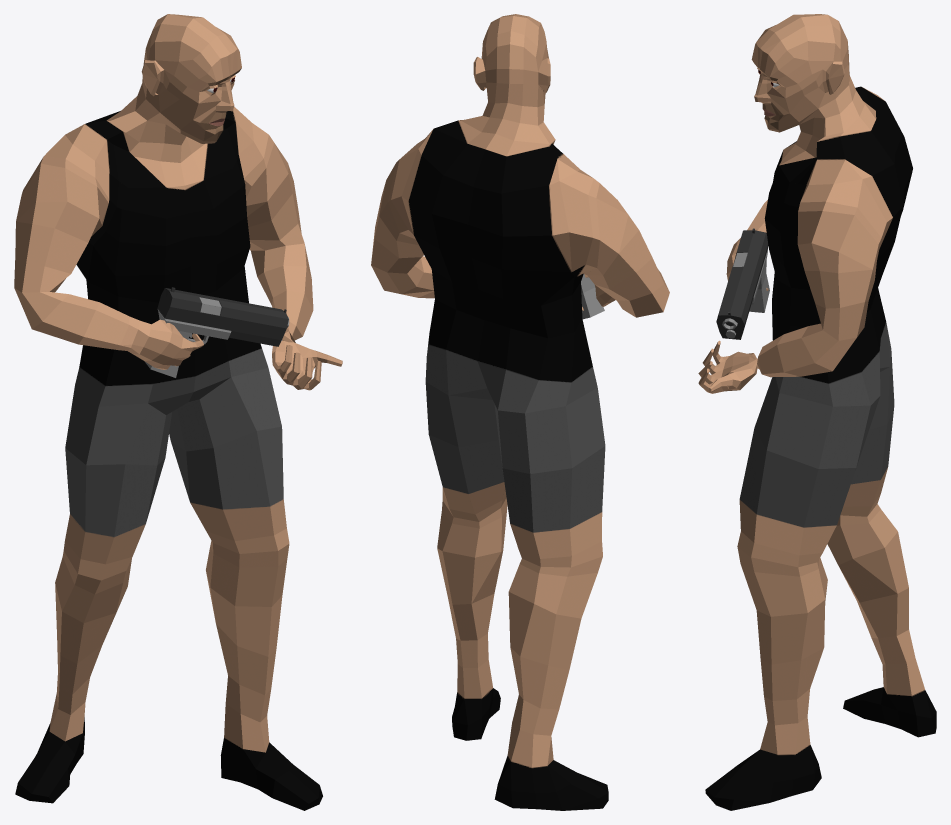
Rendered from PlayerIdle(171).obj.
3 renders of one model, left to right at view 1: azimuth 30°, elevation 25°; view 2: azimuth 150°, elevation 25°; view 3: azimuth 270°, elevation 25°, orthographic. The views are drawn at different scales.
Parts seen in each view (by area): view 1: Plane002, Box003; view 2: Plane002, Box003; view 3: Plane002, Box003.
Part boxes in pixels (x1=…): Plane002: x1=14, y1=14, x2=342, y2=810; Box003: x1=144, y1=287, x2=289, y2=377; Plane002: x1=371, y1=14, x2=669, y2=810; Box003: x1=581, y1=274, x2=604, y2=319; Plane002: x1=698, y1=14, x2=936, y2=810; Box003: x1=716, y1=228, x2=769, y2=339.
Bounding box in the file's own units: 716 × 1799 × 518.
